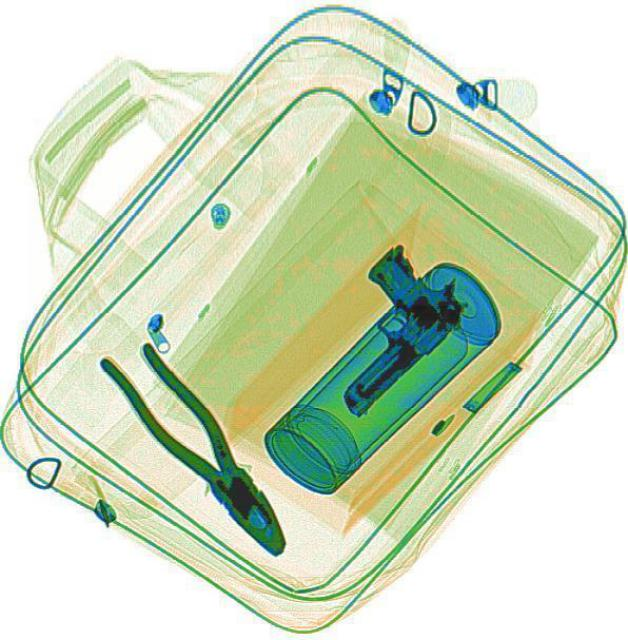Gun: (287, 225, 479, 422)
Pliers: (94, 328, 305, 568)
